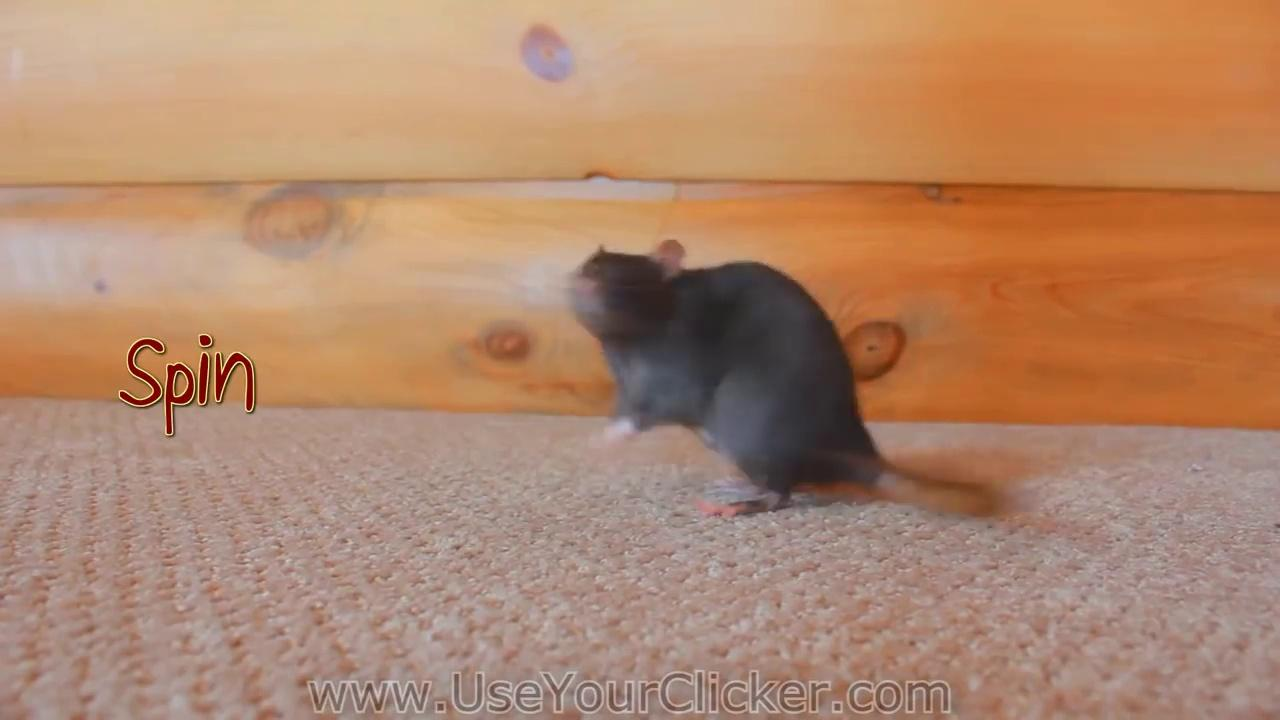rat: (568, 239, 986, 517)
